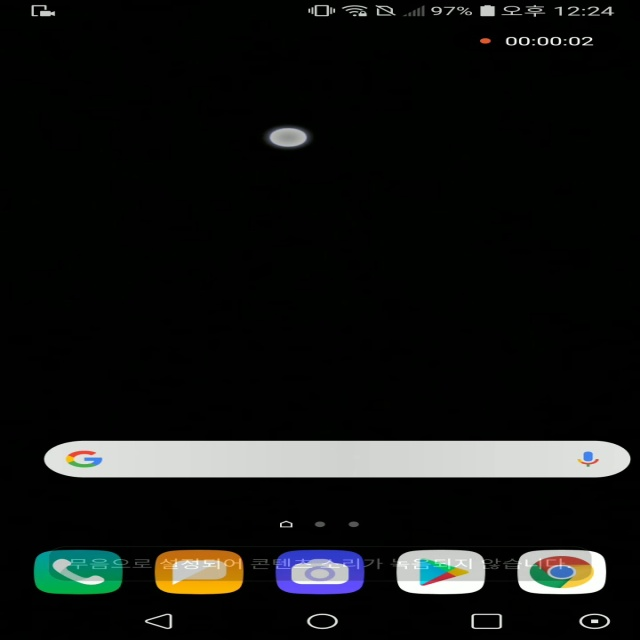Cursor: (265, 127, 310, 149)
